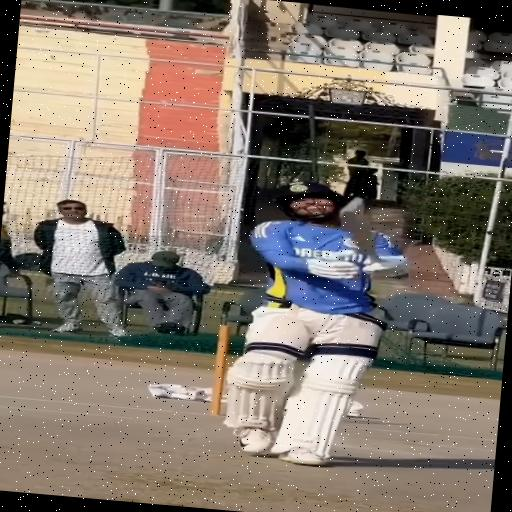Cricket bat: (340, 198, 376, 260)
